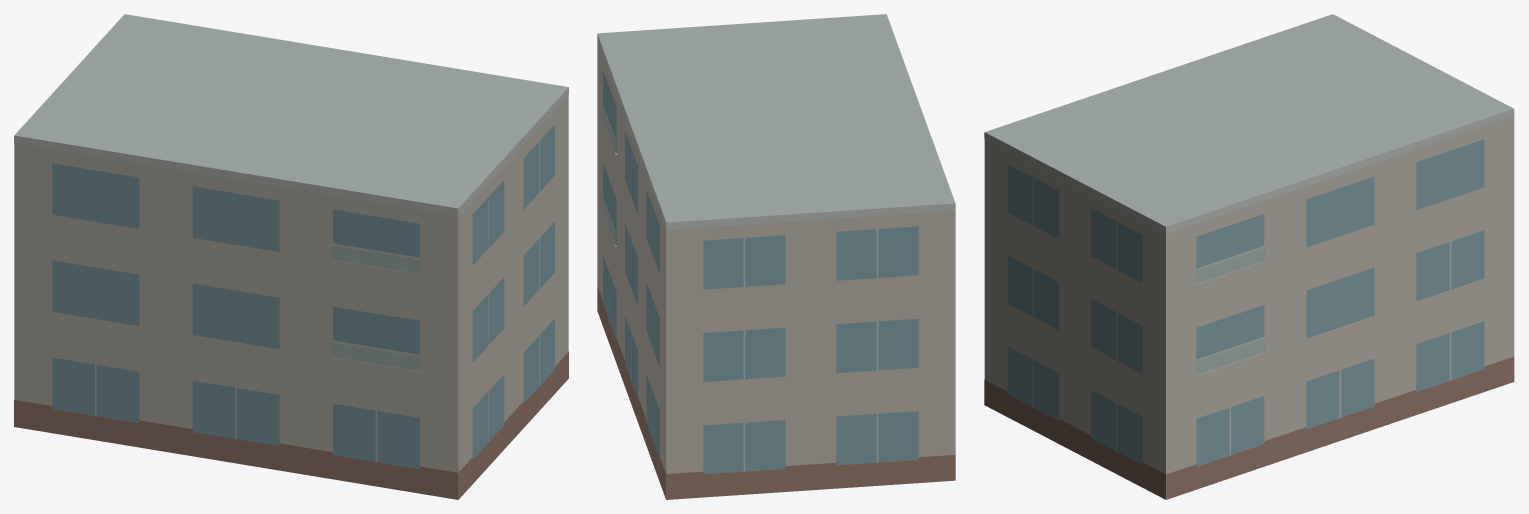
Rendered from survey-upis-33010178.glb.
3 renders of one model, left to right at view 1: azimuth 30°, elevation 25°; view 2: azimuth 150°, elevation 25°; view 3: azimuth 270°, elevation 25°, orthographic. The views are drawn at different scales.
Visible parts, largest first — view 1: survey-upis-33010178.tmp; view 2: survey-upis-33010178.tmp; view 3: survey-upis-33010178.tmp.
Boxes of the visible parts, x1,y1,x2,y2 form: survey-upis-33010178.tmp: [14, 14, 568, 499]; survey-upis-33010178.tmp: [597, 14, 955, 499]; survey-upis-33010178.tmp: [984, 14, 1514, 499].
Bounding box in the file's own units: 15.31 × 9.15 × 16.1.
